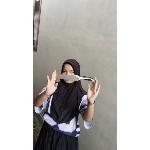Pisau: (54, 72, 96, 85)
